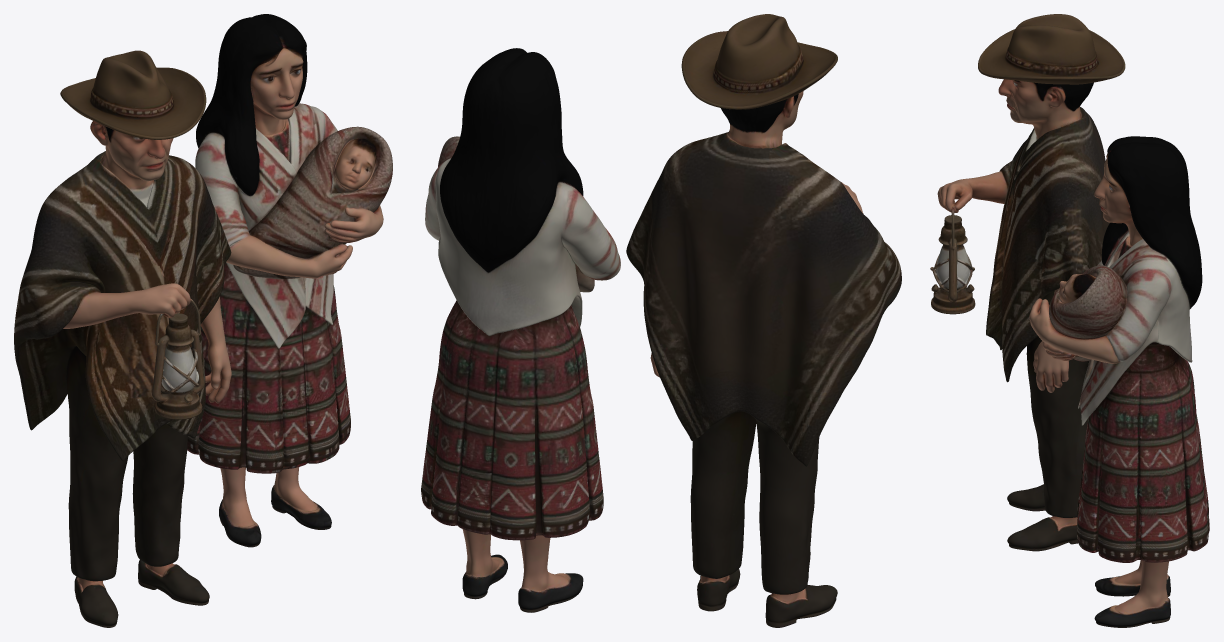
File: 54-el-camino-que-se-multiplica-optimized.glb
3 views of the same model, side by side, from view 1: azimuth 30°, elevation 25°; view 2: azimuth 150°, elevation 25°; view 3: azimuth 270°, elevation 25° (orthographic). The views are drawn at different scales.
Parts seen in each view (by area): view 1: tripo_node_5659174a-ccd0-49aa-af92-99305cfa6e66; view 2: tripo_node_5659174a-ccd0-49aa-af92-99305cfa6e66; view 3: tripo_node_5659174a-ccd0-49aa-af92-99305cfa6e66.
Part boxes in pixels (x1,y1,x2,y2): tripo_node_5659174a-ccd0-49aa-af92-99305cfa6e66: [14, 14, 392, 627]; tripo_node_5659174a-ccd0-49aa-af92-99305cfa6e66: [421, 14, 901, 627]; tripo_node_5659174a-ccd0-49aa-af92-99305cfa6e66: [930, 14, 1209, 627].
Size of the model in its own units: 0.7494 by 1 by 0.5019.
1 material, 1 textured.
